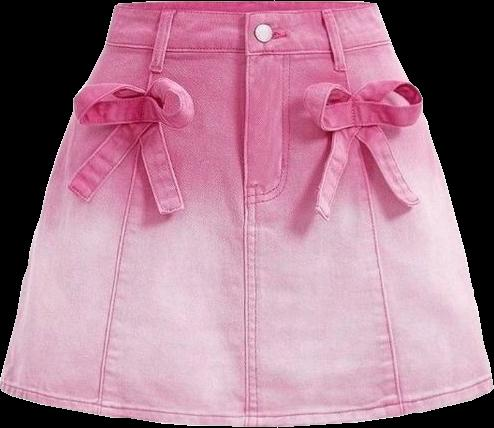Hemline: (0, 385, 493, 427)
Waistline: (105, 36, 391, 53), (114, 0, 376, 11)
